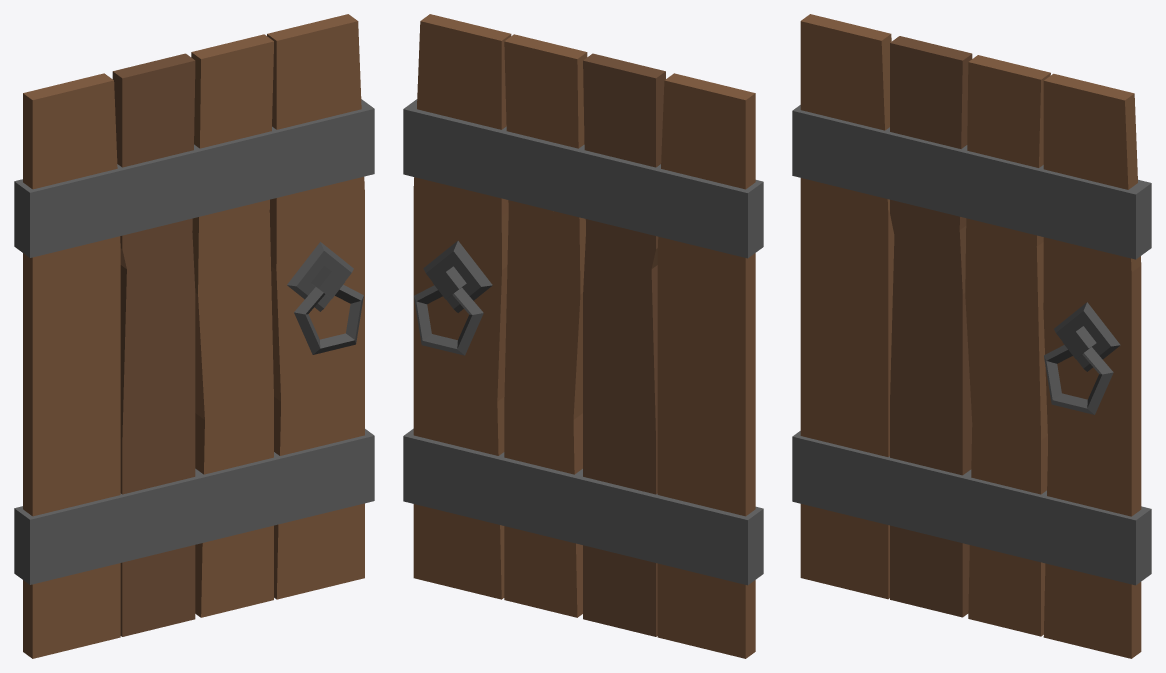
File: Door_02.fbx
3 renders of one model, left to right at view 1: azimuth 30°, elevation 25°; view 2: azimuth 150°, elevation 25°; view 3: azimuth 330°, elevation 25°, orthographic.
Parts seen in each view (by area): view 1: Door_02_LOD0; view 2: Door_02_LOD0; view 3: Door_02_LOD0.
Boxes of the visible parts, x1,y1,x2,y2 form: Door_02_LOD0: (14,14,374,658); Door_02_LOD0: (403,14,763,658); Door_02_LOD0: (792,14,1151,658).
Size of what is drawn, in the model's own units: 0.8123 by 1.26 by 0.1846.
